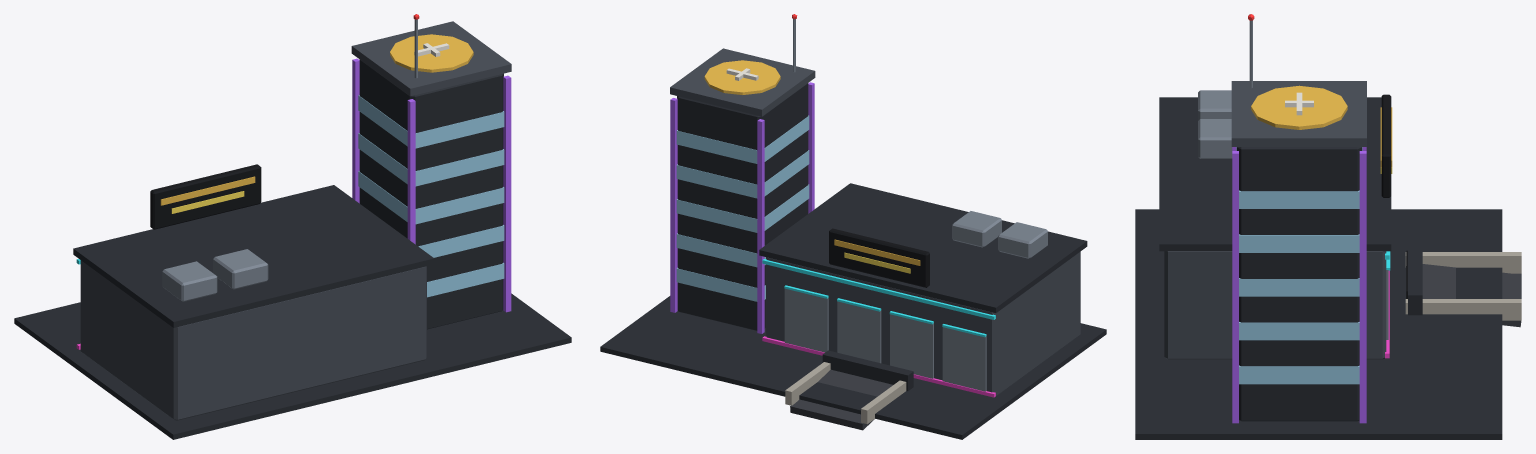
File: garage_l5.glb
The picture shows the model from 3 angles, left to right: view 1: azimuth 30°, elevation 25°; view 2: azimuth 150°, elevation 25°; view 3: azimuth 270°, elevation 25°; orthographic projection. The views are drawn at different scales.
Visible parts, largest first — view 1: garage_l5; view 2: garage_l5; view 3: garage_l5.
Part boxes in pixels (x1,y1,x2,y2): garage_l5: [14, 14, 571, 439]; garage_l5: [600, 14, 1106, 439]; garage_l5: [1135, 14, 1521, 439].
Bounding box in the file's own units: 11 × 8.6 × 8.
1 material, 1 textured.
